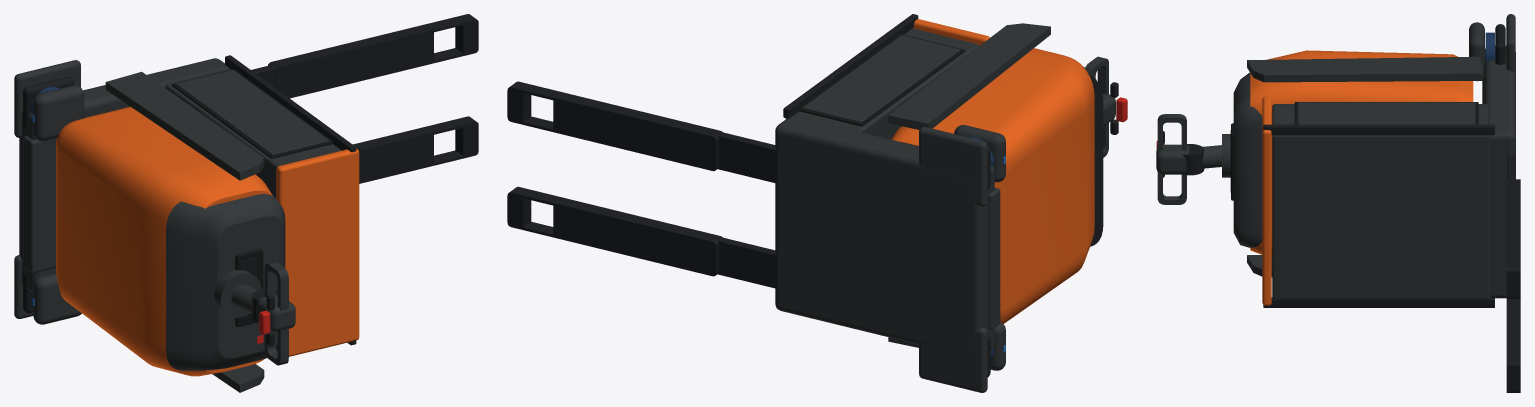
3 views of the same model, side by side, from view 1: azimuth 30°, elevation 25°; view 2: azimuth 150°, elevation 25°; view 3: azimuth 270°, elevation 25° (orthographic). The views are drawn at different scales.
Parts seen in each view (by area): view 1: drive_cover, sculpted_operator_console, battery_lid, support_arm_left, drive_side_guard_1, battery_panel_inset_1, support_arm_right, rear_lower_crossmember, chassis_core, rear_scanner_hood_1, battery_bay, battery_edge_1 (+12 smaller); view 2: chassis_core, drive_cover, support_arm_left, support_arm_right, drive_side_guard_1, battery_panel_inset_1, rear_scanner_bumper_1, rear_scanner_bumper_-1, support_root_yoke_-1, support_root_yoke_1, battery_bay, rear_lower_crossmember (+7 smaller); view 3: battery_bay, drive_cover, drive_side_guard_1, chassis_core, sculpted_operator_console, battery_panel_inset_1, battery_edge_1, battery_edge_-1, battery_lid, support_arm_left, support_arm_right, tiller_head_spine (+9 smaller).
Boxes of the visible parts, x1,y1,x2,y2 form: drive_cover: (56, 106, 272, 376); sculpted_operator_console: (166, 194, 285, 370); battery_lid: (276, 149, 359, 356); support_arm_left: (268, 14, 478, 98); drive_side_guard_1: (105, 71, 264, 180); battery_panel_inset_1: (176, 70, 329, 154); support_arm_right: (353, 116, 478, 183); rear_lower_crossmember: (23, 135, 56, 273); chassis_core: (19, 58, 227, 292); rear_scanner_hood_1: (33, 85, 83, 141); battery_bay: (165, 67, 341, 198); battery_edge_1: (225, 55, 356, 152); chassis_core: (775, 116, 994, 354); drive_cover: (891, 48, 1094, 323); support_arm_left: (507, 81, 722, 171); support_arm_right: (507, 186, 722, 276); drive_side_guard_1: (888, 23, 1050, 129); battery_panel_inset_1: (802, 35, 960, 122); rear_scanner_bumper_1: (919, 127, 987, 206); rear_scanner_bumper_-1: (919, 327, 987, 392); support_root_yoke_-1: (713, 236, 777, 288); support_root_yoke_1: (713, 131, 777, 183); battery_bay: (785, 28, 978, 139); rear_lower_crossmember: (988, 187, 1000, 329); battery_bay: (1272, 104, 1490, 299); drive_cover: (1250, 50, 1473, 257); drive_side_guard_1: (1247, 56, 1482, 82); chassis_core: (1484, 46, 1515, 298); sculpted_operator_console: (1233, 72, 1262, 247); battery_panel_inset_1: (1298, 102, 1475, 124); battery_edge_1: (1263, 124, 1494, 135); battery_edge_-1: (1263, 297, 1494, 307); battery_lid: (1262, 96, 1271, 305); support_arm_left: (1506, 179, 1520, 298); support_arm_right: (1506, 299, 1520, 392); tiller_head_spine: (1156, 144, 1188, 174).
Size of the model in its own units: 1.84 by 0.93 by 1.37.
